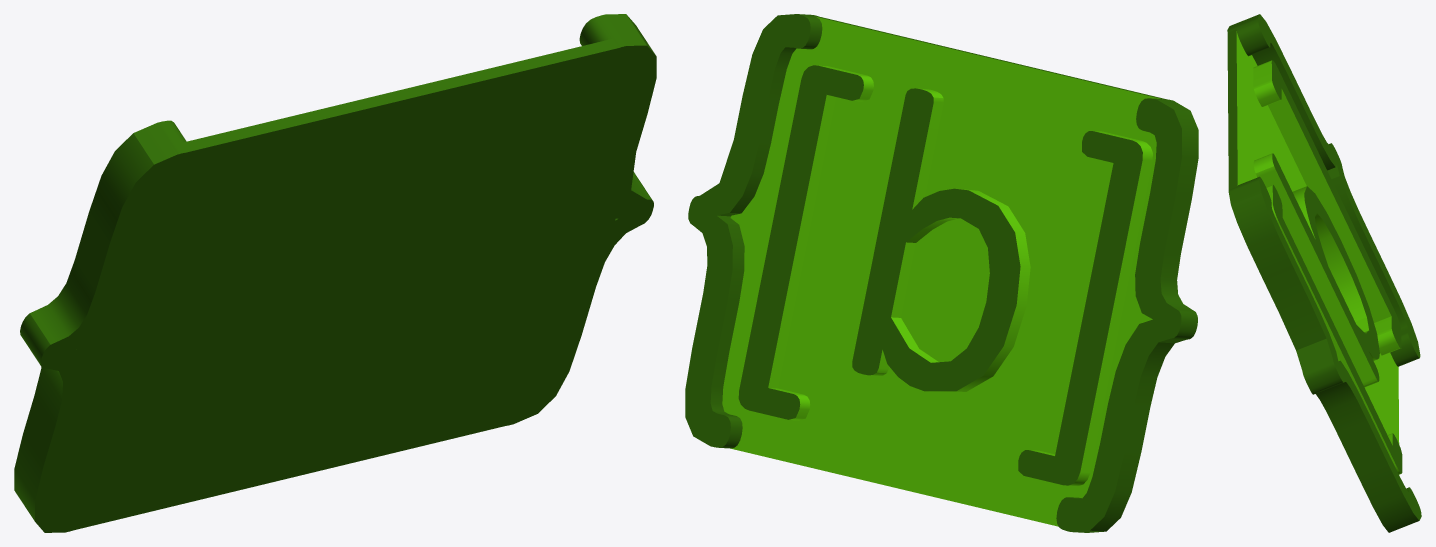
Rendered from AST_b.fbx.
3 renders of one model, left to right at view 1: azimuth 30°, elevation 25°; view 2: azimuth 150°, elevation 25°; view 3: azimuth 270°, elevation 25°, orthographic. The views are drawn at different scales.
Parts seen in each view (by area): view 1: MSH_text_b; view 2: MSH_text_b; view 3: MSH_text_b.
Boxes of the visible parts, x1,y1,x2,y2 form: MSH_text_b: (14,14,656,532); MSH_text_b: (685,14,1198,532); MSH_text_b: (1227,14,1421,532).
Bounding box in the file's own units: 8.3 × 6.17 × 3.09.
